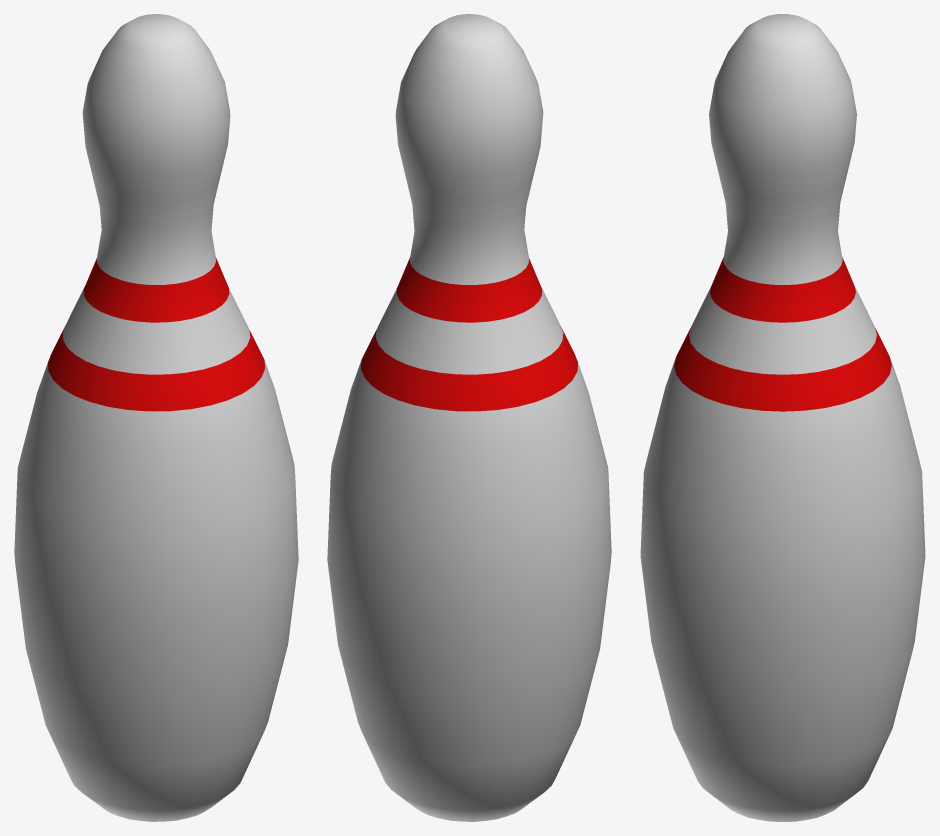
The model's file is Pin.fbx.
3 renders of one model, left to right at view 1: azimuth 30°, elevation 25°; view 2: azimuth 150°, elevation 25°; view 3: azimuth 270°, elevation 25°, orthographic.
Visible parts, largest first — view 1: Circle; view 2: Circle; view 3: Circle.
Part boxes in pixels (box(x1,y1,x2,y2)): Circle: box(14, 14, 298, 821); Circle: box(327, 14, 611, 821); Circle: box(640, 14, 925, 821).
Size of the model in its own units: 286 by 860 by 286.
